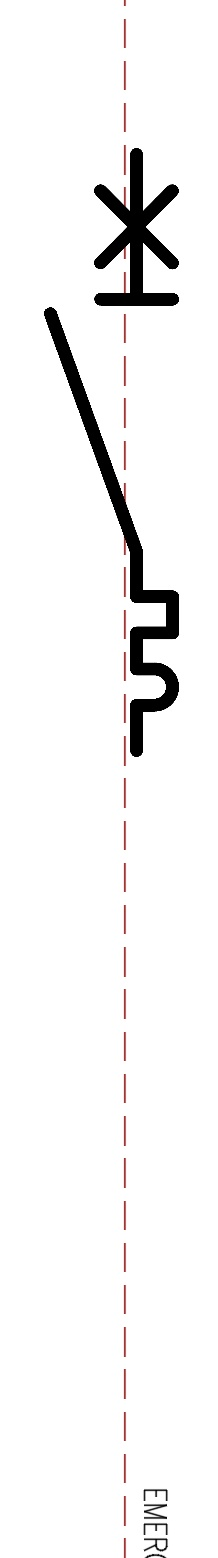interruptor_termomagnetico: (35, 139, 188, 766)
